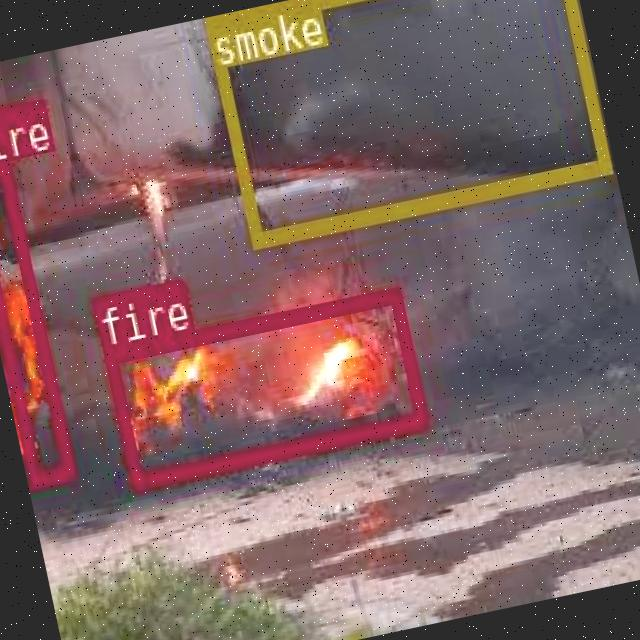fire: (101, 284, 425, 485), (0, 108, 73, 485)
smoke: (204, 0, 609, 243)
